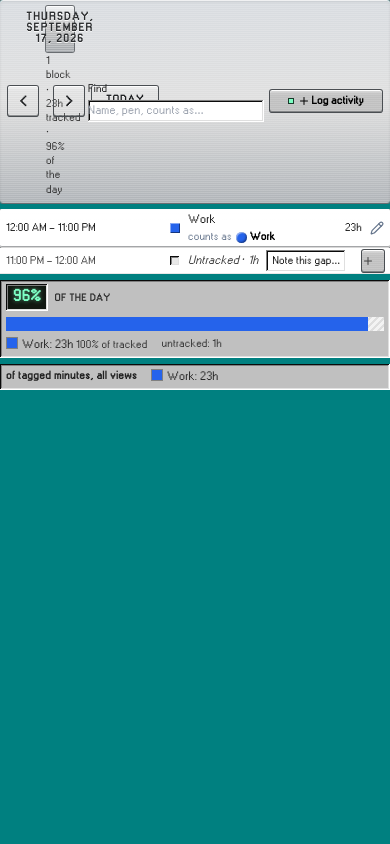
Test: TrackingActivityLog › opens log activity from an untracked gap
What coordinates should you click on to do the following:
click the button named "Log activity in this gap"
I would click on:
 (373, 262)
Its box is x1=362 y1=250 x2=384 y2=272.
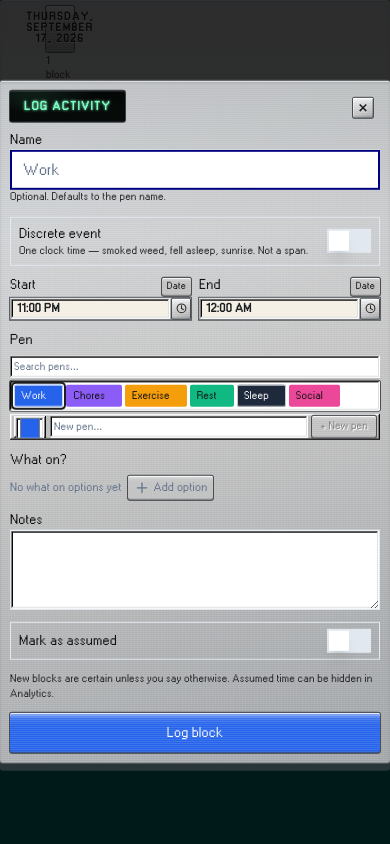
Expected: the dropdown labelled "Start" holds "23:00", x1=11 y1=298 x2=170 y2=318
Expected: the dropdown labelled "End" holds "00:00", x1=200 y1=298 x2=359 y2=318
